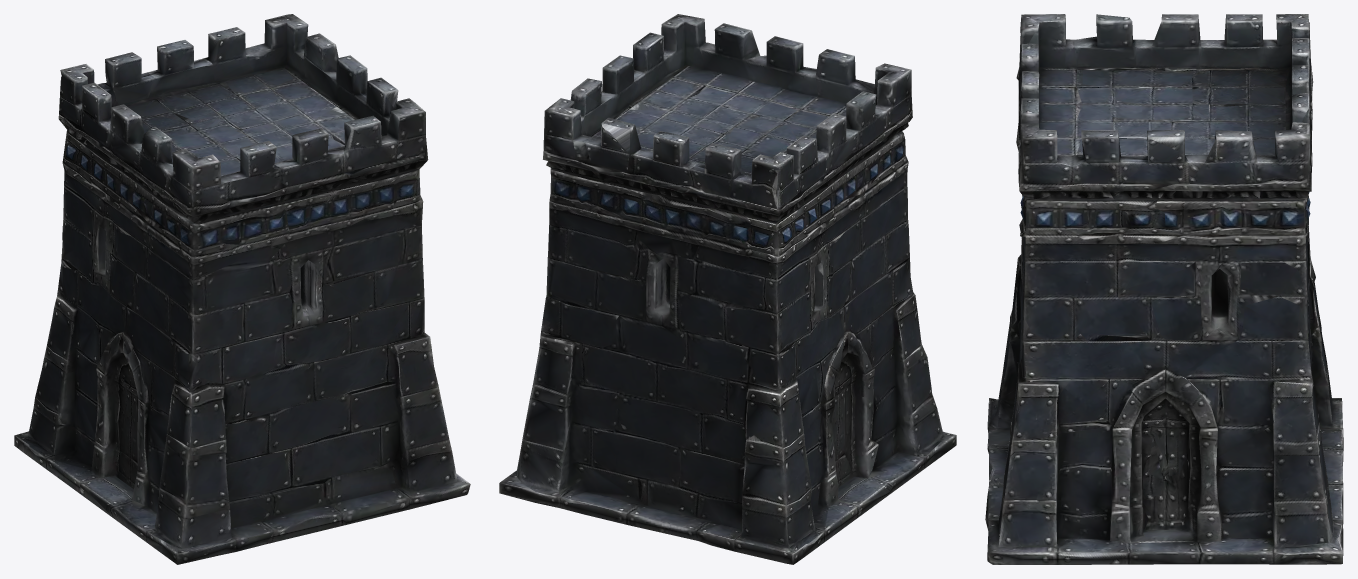
The model's file is castle_tower_short_iron.glb.
3 views of the same model, side by side, from view 1: azimuth 30°, elevation 25°; view 2: azimuth 150°, elevation 25°; view 3: azimuth 270°, elevation 25° (orthographic). The views are drawn at different scales.
Parts seen in each view (by area): view 1: tripo_node_56b459ee-da74-47ce-8a61-23b81dd2ec1e; view 2: tripo_node_56b459ee-da74-47ce-8a61-23b81dd2ec1e; view 3: tripo_node_56b459ee-da74-47ce-8a61-23b81dd2ec1e.
Boxes of the visible parts, x1=… form: tripo_node_56b459ee-da74-47ce-8a61-23b81dd2ec1e: x1=14, y1=14, x2=470, y2=564; tripo_node_56b459ee-da74-47ce-8a61-23b81dd2ec1e: x1=499, y1=14, x2=956, y2=564; tripo_node_56b459ee-da74-47ce-8a61-23b81dd2ec1e: x1=985, y1=14, x2=1343, y2=564.
Size of the model in its own units: 0.7946 by 0.9771 by 0.7678.
Materials: 1 (1 with a texture image).
